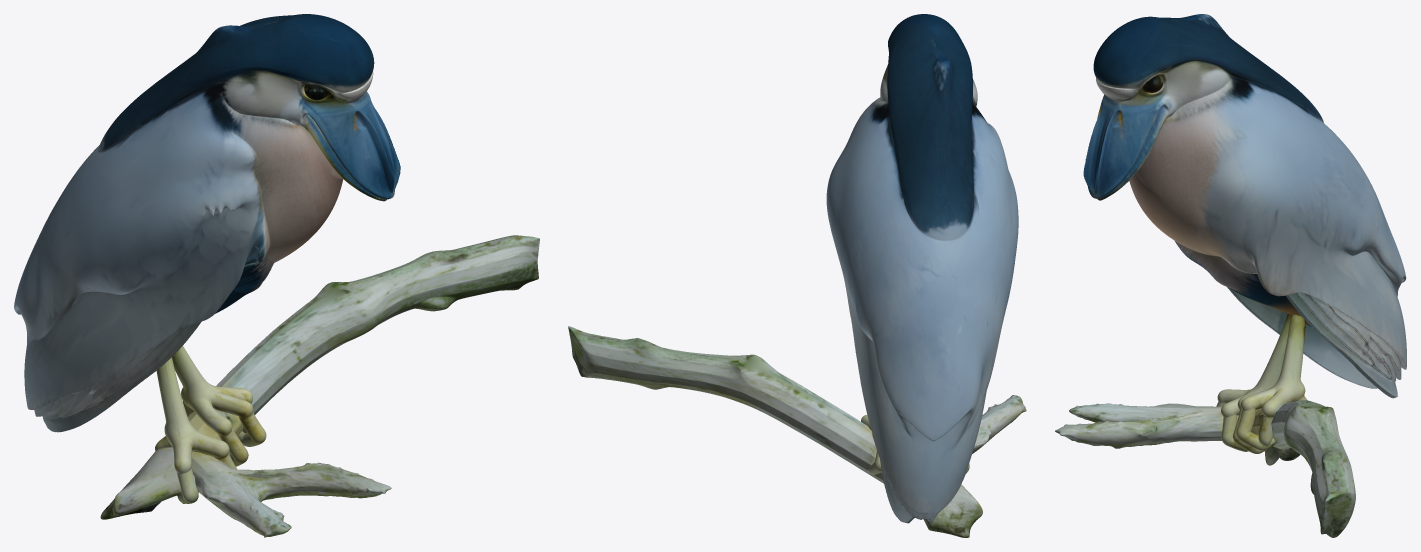
File: n2__boatbill.glb
3 renders of one model, left to right at view 1: azimuth 30°, elevation 25°; view 2: azimuth 150°, elevation 25°; view 3: azimuth 270°, elevation 25°, orthographic. The views are drawn at different scales.
Parts seen in each view (by area): view 1: Object_2, Object_3; view 2: Object_2, Object_3; view 3: Object_2, Object_3.
Part boxes in pixels (bbox=[...]): Object_2: bbox=[14, 14, 539, 537]; Object_3: bbox=[100, 15, 400, 527]; Object_2: bbox=[568, 15, 1026, 537]; Object_3: bbox=[827, 14, 1017, 536]; Object_2: bbox=[1055, 14, 1406, 537]; Object_3: bbox=[1083, 14, 1391, 459].
Size of the model in its own units: 0.5825 by 0.5847 by 0.3921.
Materials: 1 (1 with a texture image).
